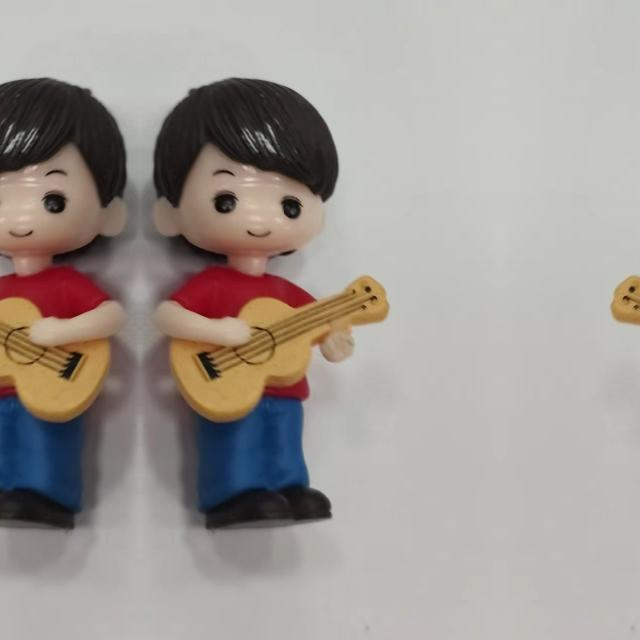man cloth: (168, 274, 342, 408), (0, 273, 112, 408)
man head: (140, 77, 348, 271), (0, 77, 140, 271)
trousers: (191, 396, 353, 534), (0, 395, 89, 534)
